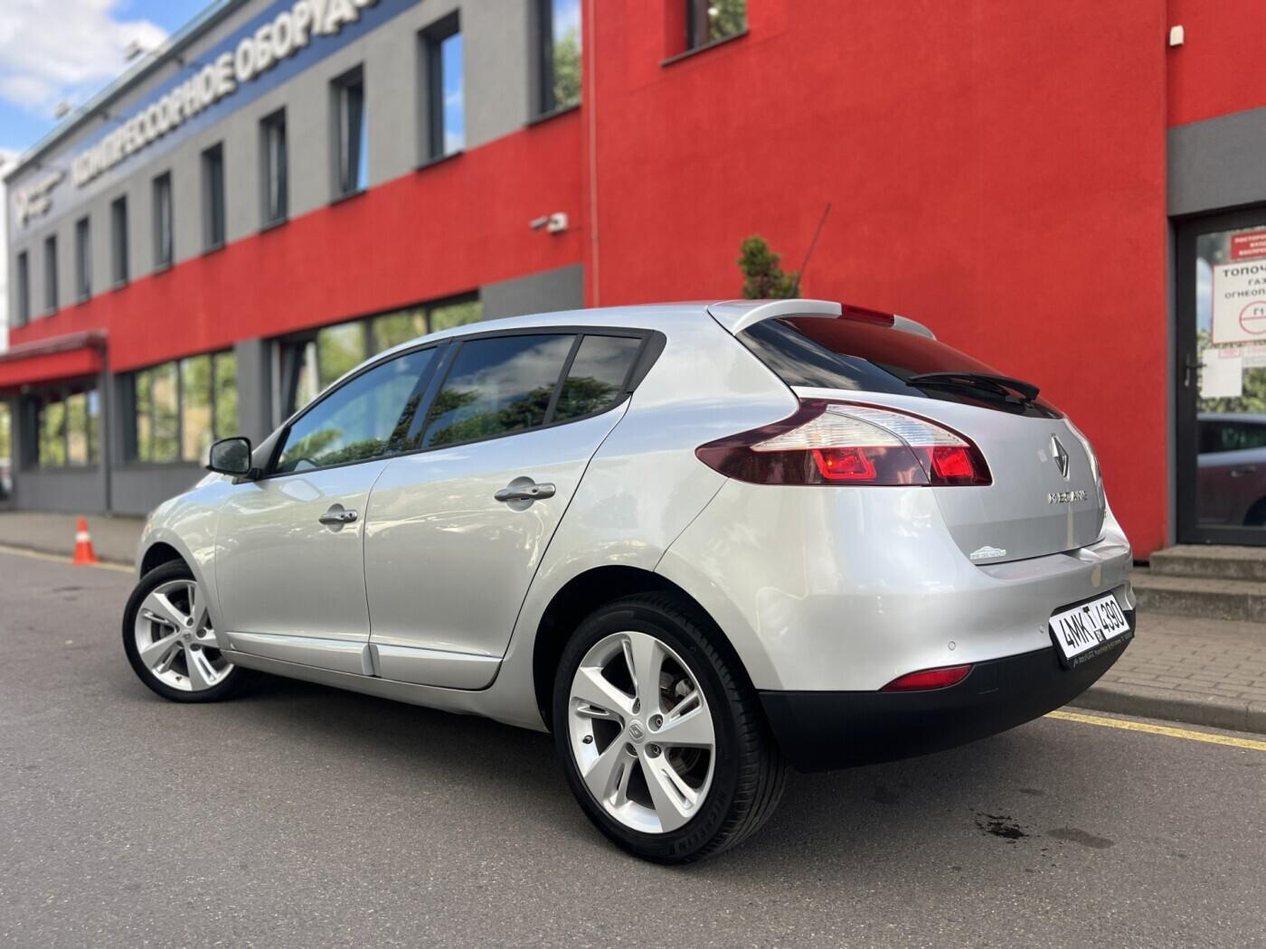Megane_2014-2016: (116, 296, 1157, 856)
